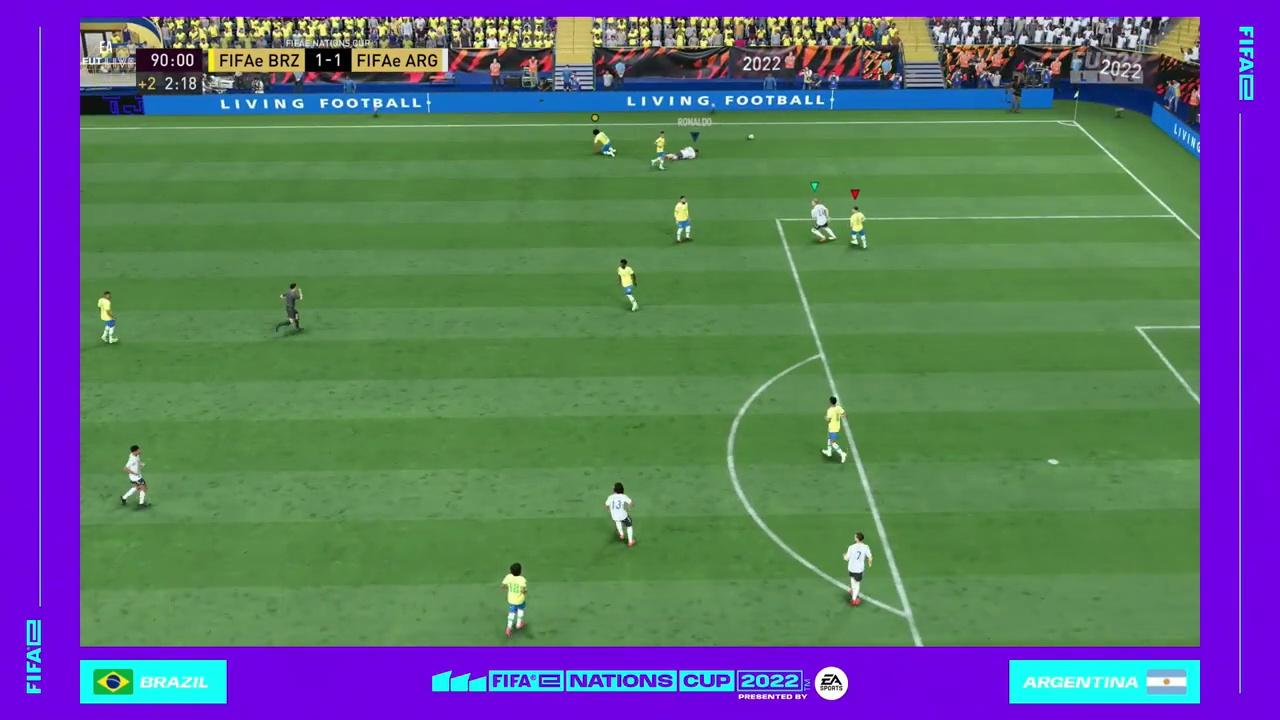scoreboard: (211, 43, 453, 74)
timestamp: (137, 48, 205, 97)
